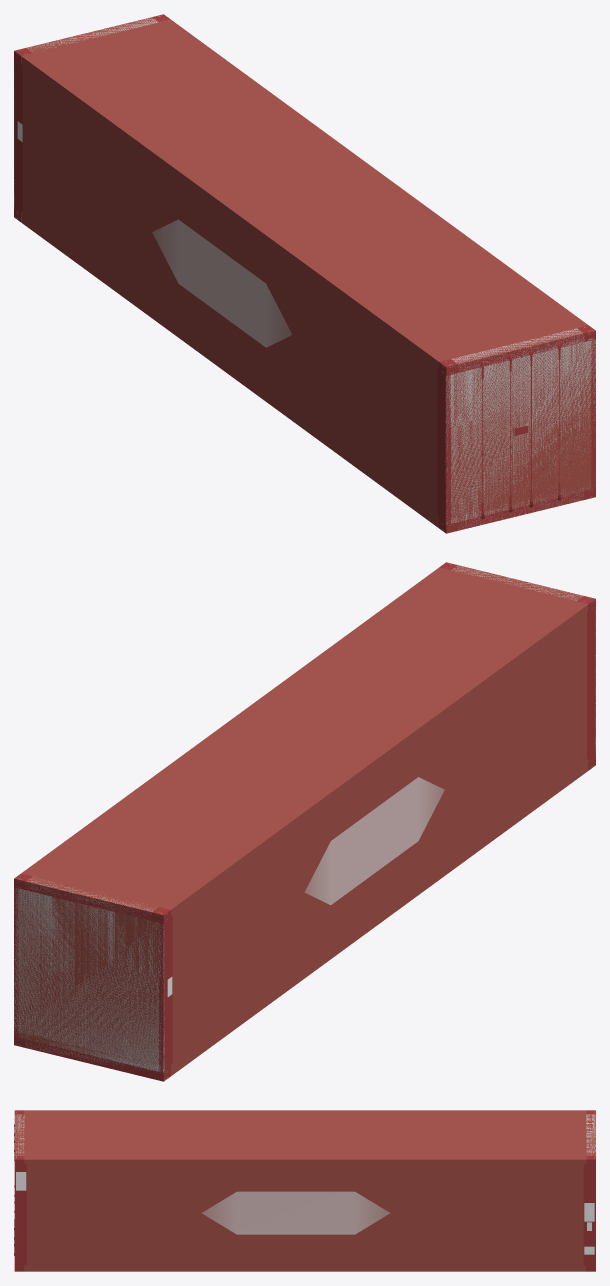
The model's file is containers_40_nodeoline.dae.
The picture shows the model from 3 angles, top to bottom: view 1: azimuth 30°, elevation 25°; view 2: azimuth 150°, elevation 25°; view 3: azimuth 270°, elevation 25°; orthographic projection. The views are drawn at different scales.
Visible parts, largest first — view 1: containers_40_nodeoline_a40, Colmesh_containers_40_nodeoline-1, containers_40_nodeoline_a1500, containers_40_nodeoline_a150, containers_40_nodeoline_a600; view 2: containers_40_nodeoline_a40, Colmesh_containers_40_nodeoline-1, containers_40_nodeoline_a150, containers_40_nodeoline_a1500, containers_40_nodeoline_a600; view 3: containers_40_nodeoline_a40, containers_40_nodeoline_a1500, Colmesh_containers_40_nodeoline-1, containers_40_nodeoline_a600, containers_40_nodeoline_a150.
Boxes of the visible parts, x1=… form: containers_40_nodeoline_a40: x1=14, y1=15, x2=595, y2=532; Colmesh_containers_40_nodeoline-1: x1=14, y1=16, x2=595, y2=530; containers_40_nodeoline_a1500: x1=14, y1=14, x2=595, y2=533; containers_40_nodeoline_a150: x1=446, y1=331, x2=595, y2=533; containers_40_nodeoline_a600: x1=14, y1=16, x2=595, y2=532; containers_40_nodeoline_a40: x1=14, y1=563, x2=595, y2=1079; Colmesh_containers_40_nodeoline-1: x1=14, y1=564, x2=595, y2=1080; containers_40_nodeoline_a150: x1=14, y1=879, x2=163, y2=1081; containers_40_nodeoline_a1500: x1=14, y1=562, x2=595, y2=1081; containers_40_nodeoline_a600: x1=14, y1=564, x2=595, y2=1080; containers_40_nodeoline_a40: x1=14, y1=1110, x2=595, y2=1271; containers_40_nodeoline_a1500: x1=14, y1=1110, x2=595, y2=1271; Colmesh_containers_40_nodeoline-1: x1=15, y1=1114, x2=595, y2=1157; containers_40_nodeoline_a600: x1=14, y1=1111, x2=595, y2=1271; containers_40_nodeoline_a150: x1=14, y1=1159, x2=595, y2=1271.
Size of the model in its own units: 2.48 by 12.21 by 2.59.
